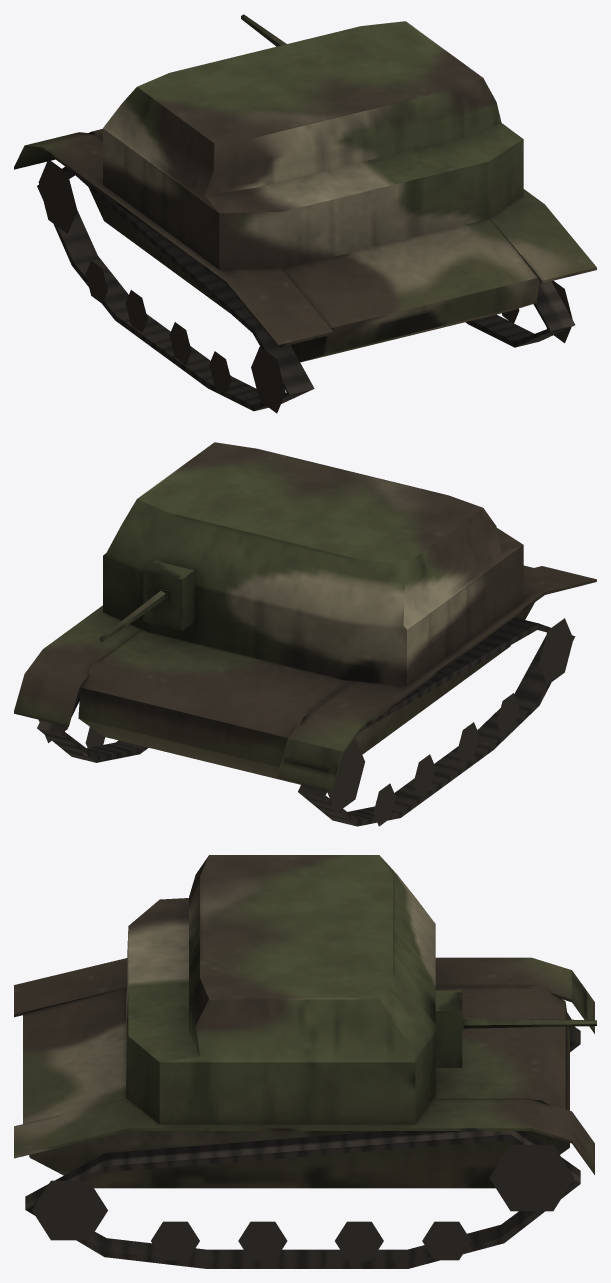
3 renders of one model, top to bottom at view 1: azimuth 30°, elevation 25°; view 2: azimuth 150°, elevation 25°; view 3: azimuth 270°, elevation 25°, orthographic. The views are drawn at different scales.
Parts seen in each view (by area): view 1: Chassis, Chenille_Gauche_01, Chenille_Droite_01, Roue_G1, Roue_G6, Roue_G3, Roue_G4, Roue_G5, Roue_G2; view 2: Chassis, Chenille_Gauche_01, Tourelle_01, Chenille_Droite_01, Roue_G1, Roue_G6, Canon_01, Roue_G2, Roue_G3, Roue_G4, Roue_G5; view 3: Chassis, Chenille_Droite_01, Roue_D1, Roue_D6, Tourelle_01, Roue_D4, Roue_D2, Roue_D3, Roue_D5, Canon_01.
Part boxes in pixels (x1=…): Chassis: x1=14, y1=21, x2=596, y2=362; Chenille_Gauche_01: x1=37, y1=166, x2=314, y2=411; Chenille_Droite_01: x1=465, y1=280, x2=575, y2=347; Roue_G1: x1=38, y1=159, x2=77, y2=233; Roue_G6: x1=251, y1=347, x2=285, y2=413; Roue_G3: x1=125, y1=290, x2=147, y2=332; Roue_G4: x1=169, y1=322, x2=191, y2=364; Roue_G5: x1=209, y1=351, x2=231, y2=393; Roue_G2: x1=85, y1=260, x2=107, y2=303; Chassis: x1=14, y1=442, x2=596, y2=790; Chenille_Gauche_01: x1=298, y1=617, x2=575, y2=826; Tourelle_01: x1=143, y1=561, x2=194, y2=630; Chenille_Droite_01: x1=37, y1=689, x2=148, y2=762; Roue_G1: x1=326, y1=738, x2=364, y2=813; Roue_G6: x1=539, y1=618, x2=573, y2=684; Canon_01: x1=99, y1=591, x2=165, y2=641; Roue_G2: x1=373, y1=783, x2=395, y2=826; Roue_G3: x1=413, y1=754, x2=435, y2=797; Roue_G4: x1=457, y1=722, x2=479, y2=764; Roue_G5: x1=497, y1=693, x2=519, y2=735; Chassis: x1=14, y1=855, x2=594, y2=1188; Chenille_Droite_01: x1=25, y1=1131, x2=580, y2=1268; Roue_D1: x1=489, y1=1144, x2=574, y2=1211; Roue_D6: x1=32, y1=1180, x2=107, y2=1240; Tourelle_01: x1=435, y1=990, x2=462, y2=1067; Roue_D4: x1=238, y1=1221, x2=287, y2=1260; Roue_D2: x1=422, y1=1221, x2=470, y2=1260; Roue_D3: x1=335, y1=1221, x2=383, y2=1260; Roue_D5: x1=151, y1=1221, x2=199, y2=1260; Canon_01: x1=463, y1=1018, x2=596, y2=1028.
Bounding box in the file's own units: 180 × 260 × 130.
1 material, 1 textured.
